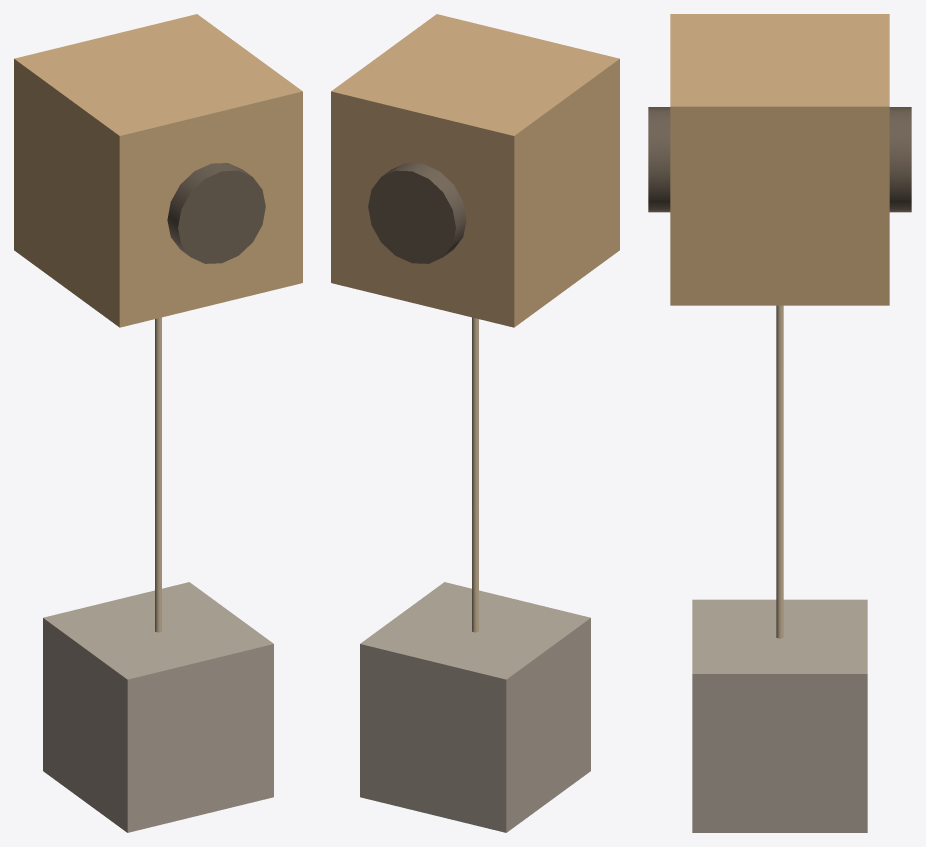
Rendered from prop_winch.glb.
3 renders of one model, left to right at view 1: azimuth 30°, elevation 25°; view 2: azimuth 150°, elevation 25°; view 3: azimuth 270°, elevation 25°, orthographic. The views are drawn at different scales.
Visible parts, largest first — view 1: Winch; view 2: Winch; view 3: Winch.
Part boxes in pixels (box(x1,y1,x2,y2)): Winch: box(14, 14, 302, 832); Winch: box(331, 14, 619, 832); Winch: box(648, 14, 911, 832).
Bounding box in the file's own units: 0.5 × 1.85 × 0.6.
